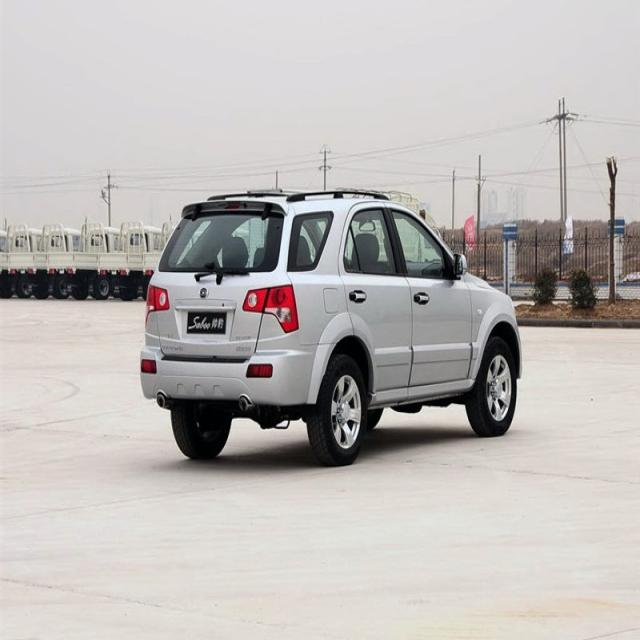back_glass: (159, 207, 285, 273)
back_left_side_light: (144, 284, 170, 328)
back_right_side_light: (243, 284, 299, 336)
door: (338, 204, 417, 403)
front_right_side_door: (386, 198, 474, 400)
front_right_side_mirror: (454, 252, 468, 279)
rear_bumper: (139, 313, 335, 404)
wheel: (315, 358, 364, 464), (470, 338, 517, 433), (170, 404, 232, 459)
